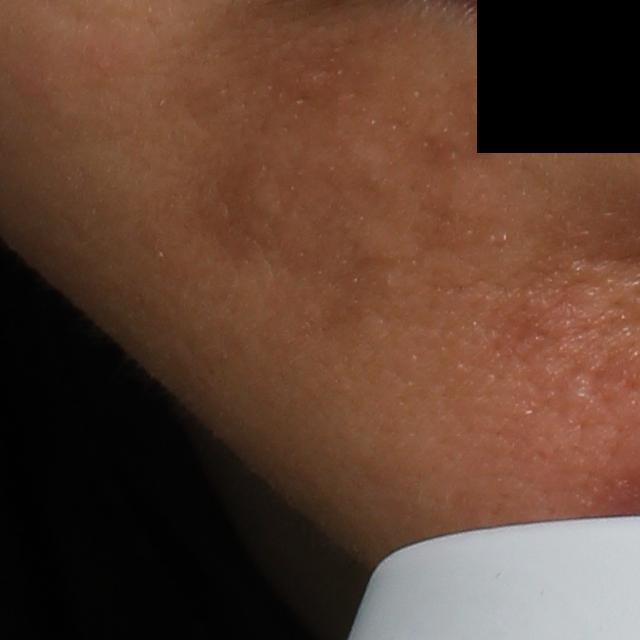hypertrophic_scar: (411, 163, 506, 235)
